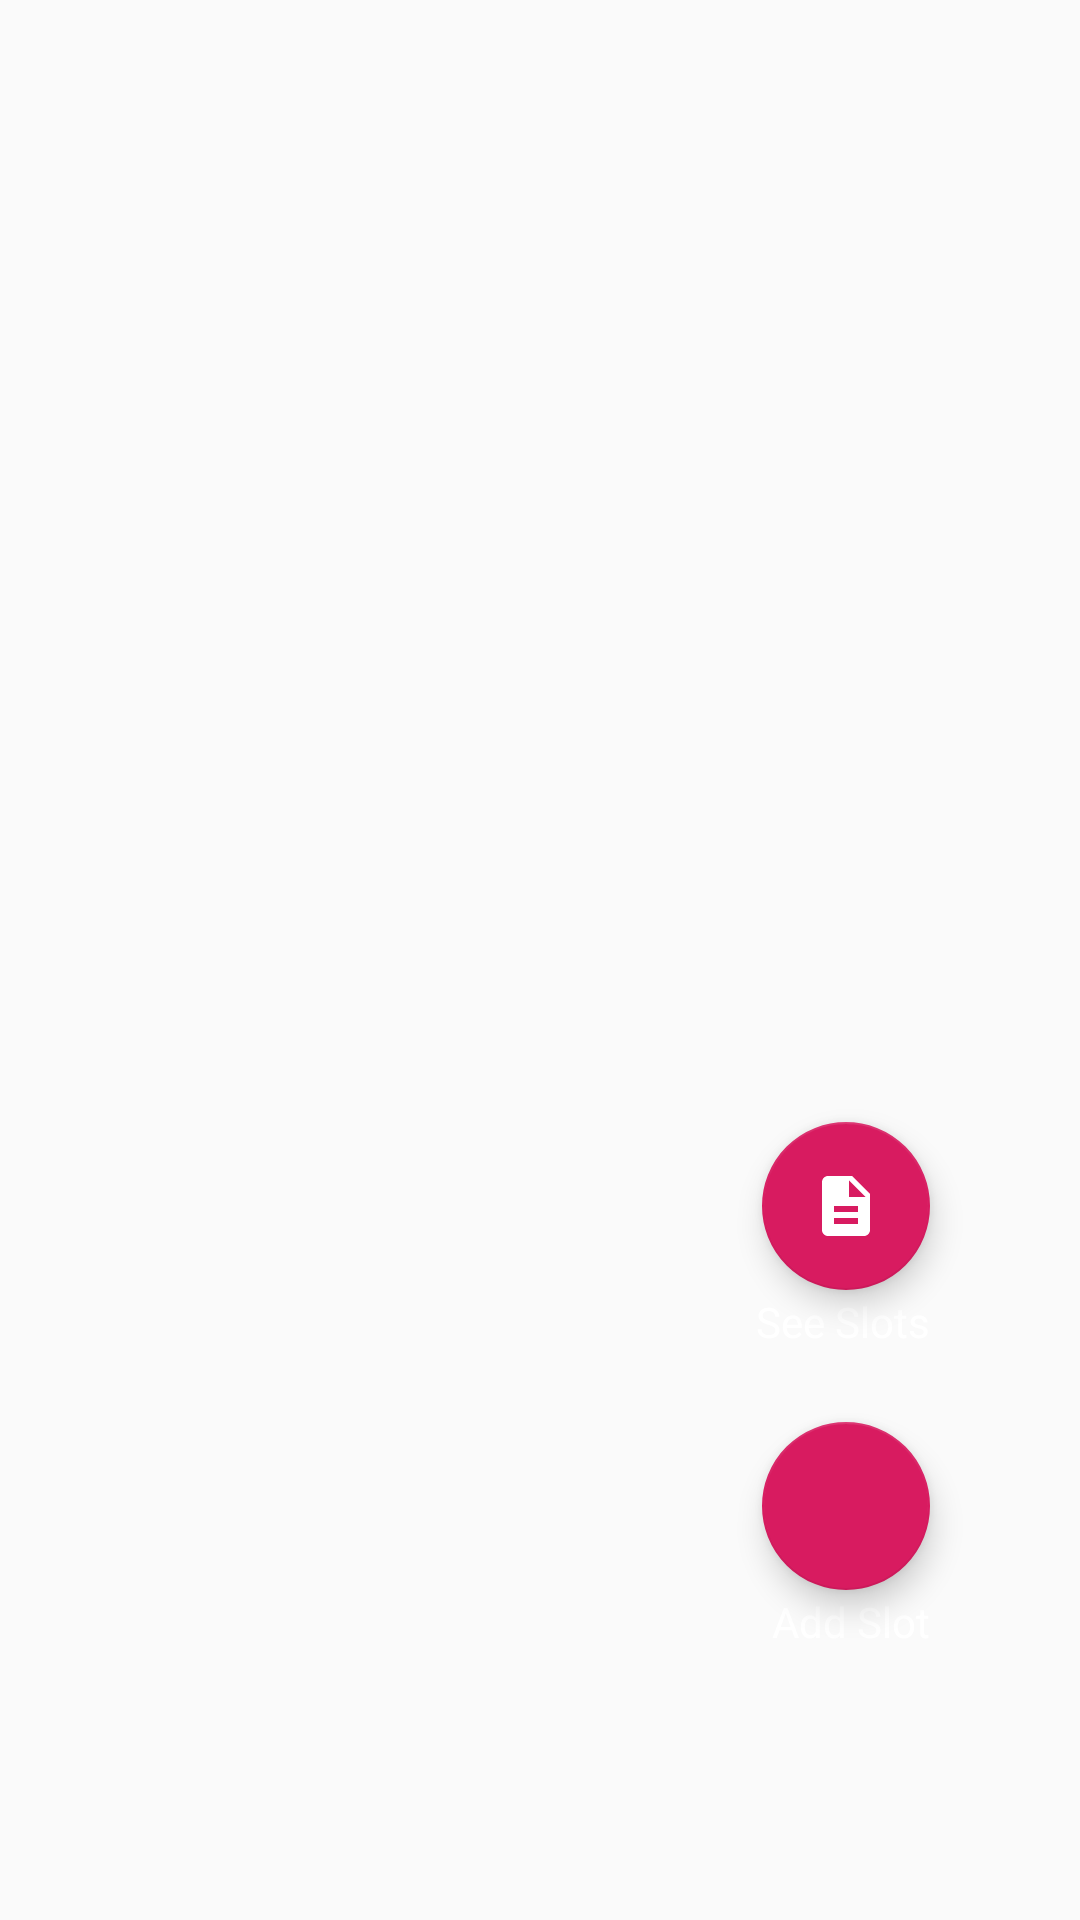

Where icons sit on this 1080×1920 app screen, as (x1, y1, x2, y2):
description: (762, 1122, 930, 1290)
